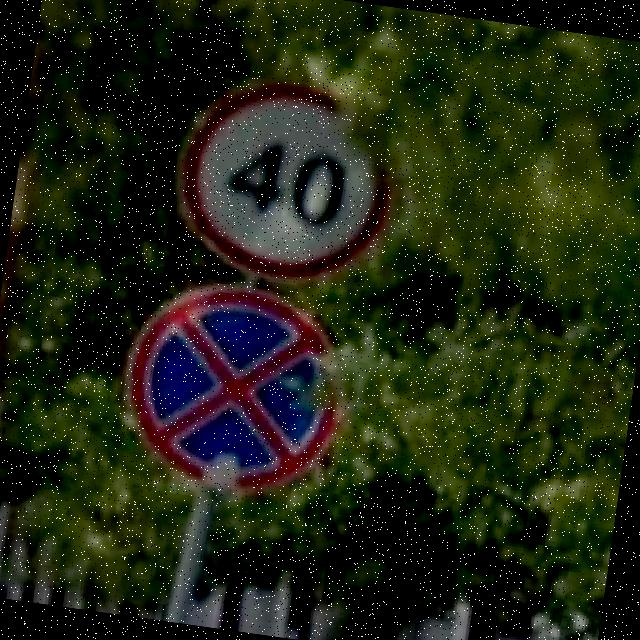Ograniczenie predkosci do 40: (162, 66, 414, 298)
